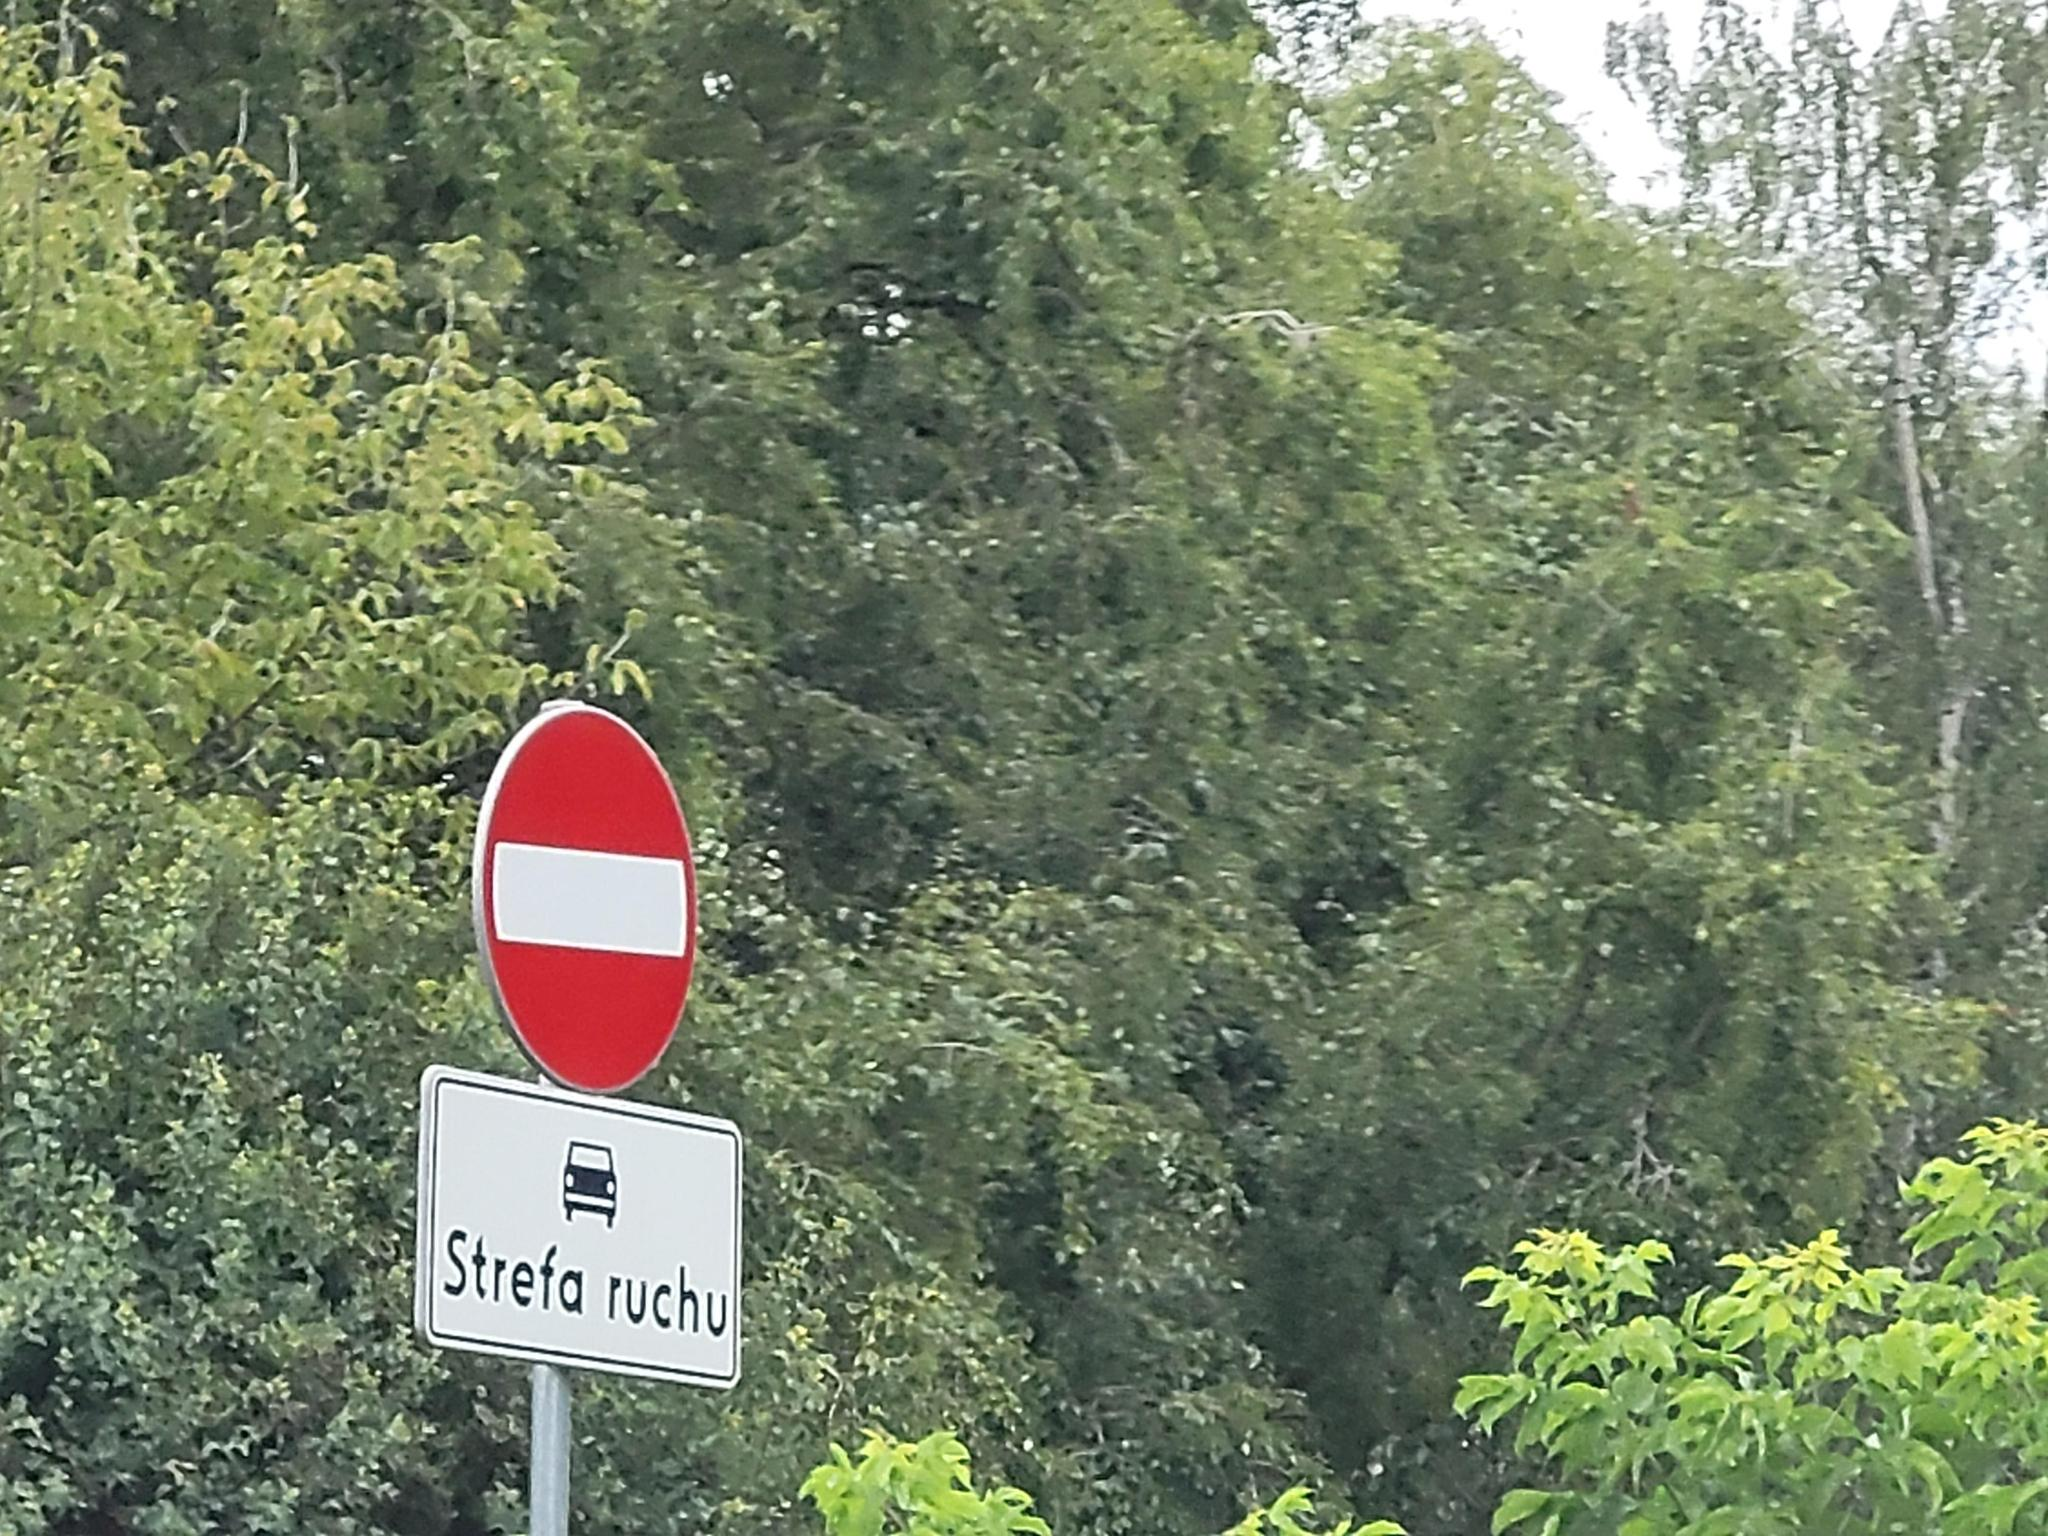information: (421, 1063, 743, 1391)
prohibitory: (476, 703, 701, 1094)
